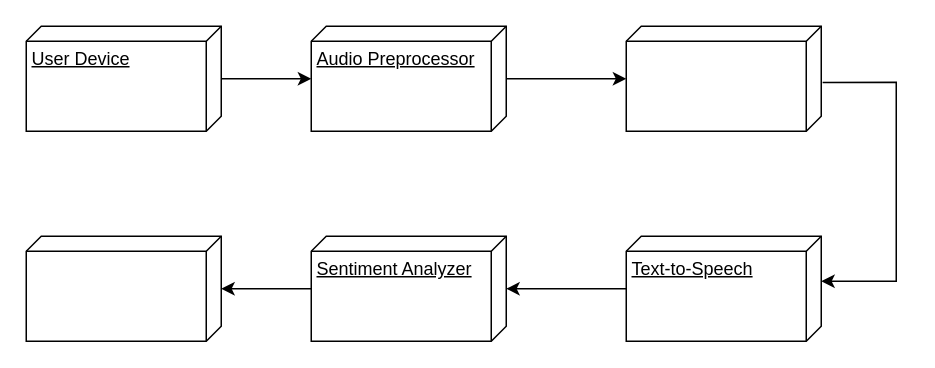
Some shapes in this 935 by 368 pixel diagram are drawn without their labels. The centre of each missing label's shape, as x and y in pixels:
Report Generator: point 123,288
Speech-to-Text: point 723,78
